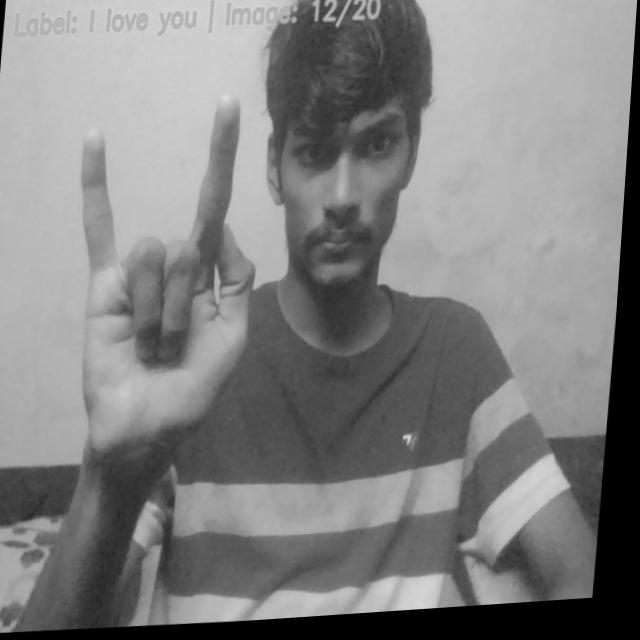I love you: (62, 84, 274, 474)
